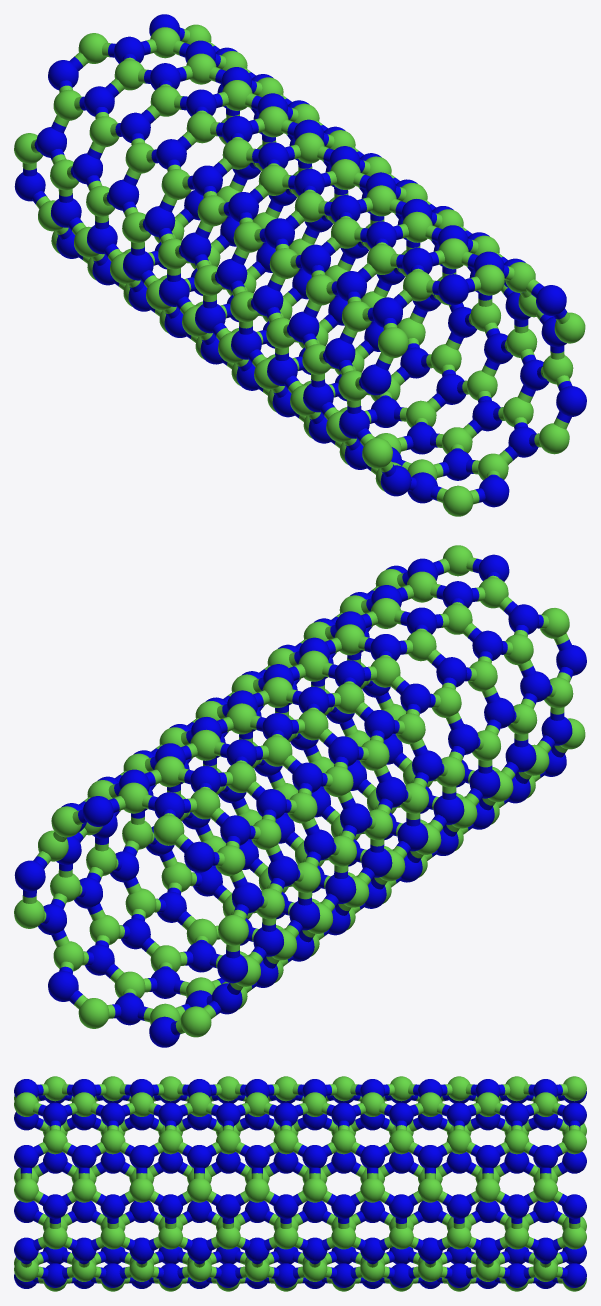
The picture shows the model from 3 angles, top to bottom: view 1: azimuth 30°, elevation 25°; view 2: azimuth 150°, elevation 25°; view 3: azimuth 270°, elevation 25°; orthographic projection. The views are drawn at different scales.
Parts seen in each view (by area): view 1: Shape_Sphere.015, Shape_Sphere.002, Shape_Sphere.021, Shape_Sphere.004, Shape_Sphere, Shape_Sphere.010, Shape_Sphere.020, Shape_Sphere.013, Shape_Sphere.012, Shape_Sphere.005, Shape_Sphere.018, Shape_Sphere.007 (+57 smaller); view 2: Shape_Sphere.235, Shape_Sphere.224, Shape_Sphere.239, Shape_Sphere.222, Shape_Sphere.217, Shape_Sphere.233, Shape_Sphere.230, Shape_Sphere.219, Shape_Sphere.227, Shape_Sphere.238, Shape_Sphere.225, Shape_Sphere.232 (+57 smaller); view 3: Shape_Sphere.007, Shape_Sphere.199, Shape_Sphere.079, Shape_Sphere.224, Shape_Sphere.151, Shape_Sphere.127, Shape_Sphere.223, Shape_Sphere.175, Shape_Sphere.031, Shape_Sphere.055, Shape_Sphere.225, Shape_Sphere.103 (+139 smaller).
Boxes of the visible parts, x1=… form: Shape_Sphere.015: x1=442, y1=485, x2=473, y2=516; Shape_Sphere.002: x1=438, y1=274, x2=468, y2=305; Shape_Sphere.021: x1=362, y1=438, x2=392, y2=468; Shape_Sphere.004: x1=536, y1=285, x2=566, y2=315; Shape_Sphere: x1=378, y1=327, x2=408, y2=358; Shape_Sphere.010: x1=556, y1=386, x2=586, y2=416; Shape_Sphere.020: x1=360, y1=364, x2=391, y2=395; Shape_Sphere.013: x1=539, y1=423, x2=569, y2=454; Shape_Sphere.012: x1=479, y1=476, x2=509, y2=507; Shape_Sphere.005: x1=474, y1=264, x2=504, y2=295; Shape_Sphere.018: x1=380, y1=465, x2=411, y2=496; Shape_Sphere.007: x1=554, y1=312, x2=585, y2=343; Shape_Sphere.235: x1=180, y1=1006, x2=211, y2=1037; Shape_Sphere.224: x1=14, y1=860, x2=45, y2=891; Shape_Sphere.239: x1=218, y1=915, x2=248, y2=945; Shape_Sphere.222: x1=83, y1=796, x2=113, y2=826; Shape_Sphere.217: x1=184, y1=841, x2=214, y2=872; Shape_Sphere.233: x1=78, y1=998, x2=109, y2=1028; Shape_Sphere.230: x1=48, y1=971, x2=78, y2=1001; Shape_Sphere.219: x1=153, y1=814, x2=184, y2=845; Shape_Sphere.227: x1=14, y1=899, x2=44, y2=928; Shape_Sphere.238: x1=217, y1=954, x2=247, y2=983; Shape_Sphere.225: x1=51, y1=806, x2=81, y2=837; Shape_Sphere.232: x1=149, y1=1016, x2=179, y2=1047; Shape_Sphere.007: x1=14, y1=1178, x2=38, y2=1202; Shape_Sphere.199: x1=475, y1=1178, x2=500, y2=1202; Shape_Sphere.079: x1=187, y1=1178, x2=211, y2=1202; Shape_Sphere.224: x1=562, y1=1194, x2=586, y2=1218; Shape_Sphere.151: x1=360, y1=1178, x2=384, y2=1202; Shape_Sphere.127: x1=302, y1=1178, x2=327, y2=1202; Shape_Sphere.223: x1=533, y1=1178, x2=557, y2=1202; Shape_Sphere.175: x1=418, y1=1178, x2=442, y2=1202; Shape_Sphere.031: x1=71, y1=1178, x2=96, y2=1202; Shape_Sphere.055: x1=129, y1=1178, x2=154, y2=1202; Shape_Sphere.225: x1=562, y1=1129, x2=586, y2=1154; Shape_Sphere.103: x1=244, y1=1178, x2=269, y2=1202.
Bounding box in the file's own units: 910 × 910 × 2443.
